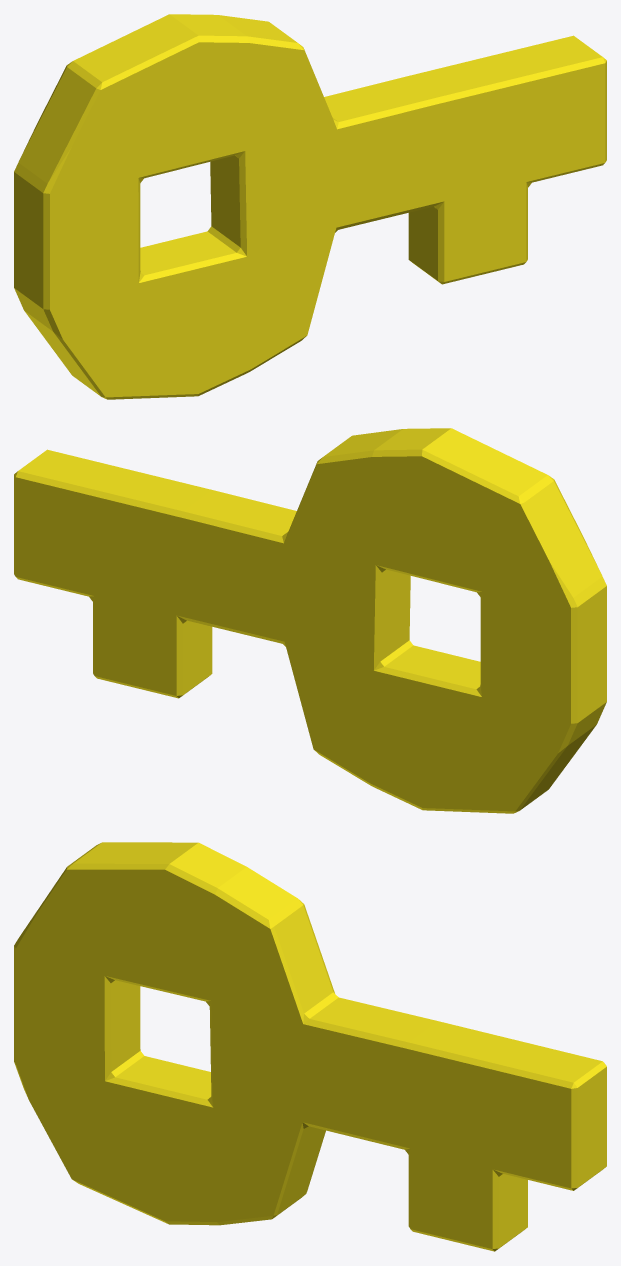
The model's file is key.fbx.
The picture shows the model from 3 angles, top to bottom: view 1: azimuth 30°, elevation 25°; view 2: azimuth 150°, elevation 25°; view 3: azimuth 330°, elevation 25°; orthographic projection.
Visible parts, largest first — view 1: Cube; view 2: Cube; view 3: Cube.
Part boxes in pixels (x1=…): Cube: x1=14, y1=14, x2=606, y2=399; Cube: x1=14, y1=428, x2=606, y2=813; Cube: x1=14, y1=842, x2=606, y2=1251.
Bounding box in the file's own units: 281 × 172 × 29.22.
